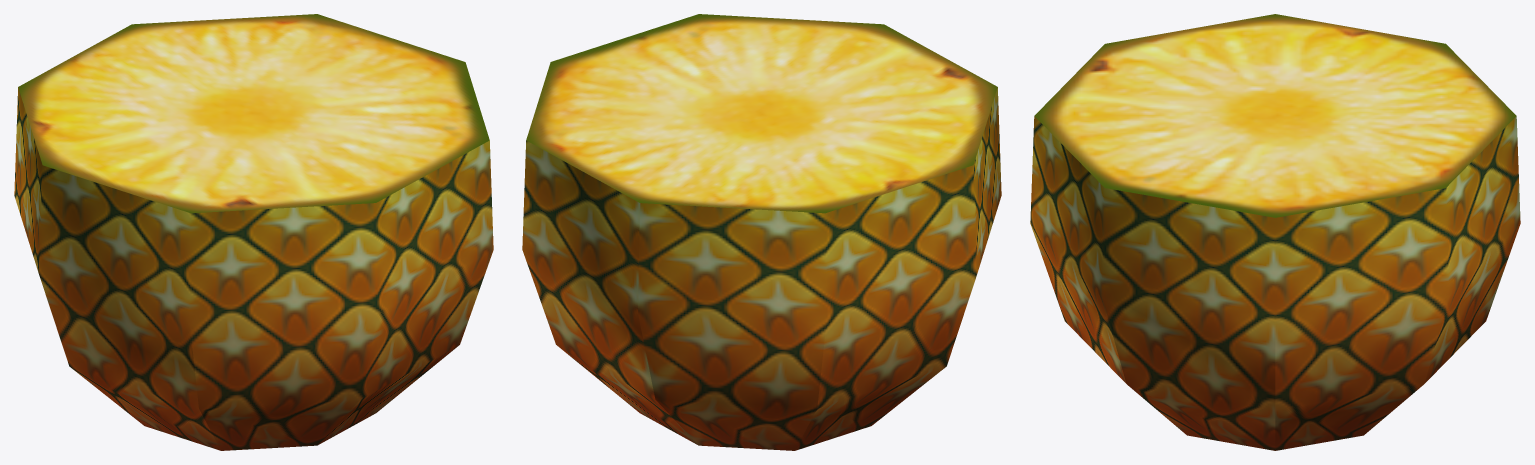
Rendered from Pineapple_Half.fbx.
3 renders of one model, left to right at view 1: azimuth 30°, elevation 25°; view 2: azimuth 150°, elevation 25°; view 3: azimuth 270°, elevation 25°, orthographic.
Visible parts, largest first — view 1: Pineapple_Half; view 2: Pineapple_Half; view 3: Pineapple_Half.
Boxes of the visible parts, <box> form: Pineapple_Half: <box>14,14,493,450</box>; Pineapple_Half: <box>522,14,1001,450</box>; Pineapple_Half: <box>1030,14,1520,450</box>.
Bounding box in the file's own units: 45.42 × 31.05 × 45.42.
